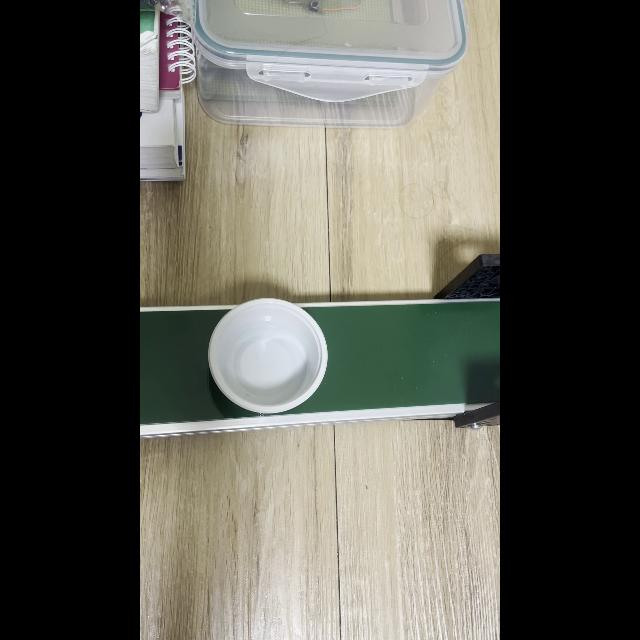clean: (213, 310, 321, 408)
